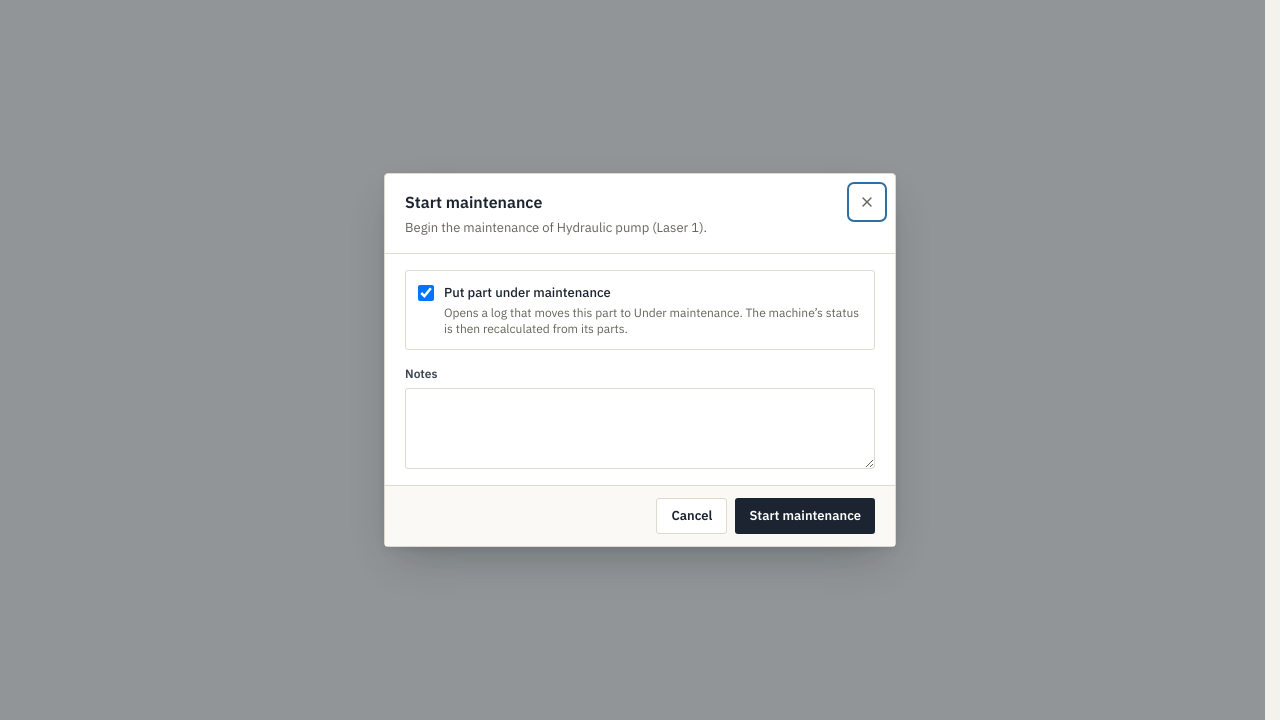
Test: Maintenance event dialogs › starting and completing › links to the open maintenance when the task already has one
Step 1. Click the button "Start maintenance" → (805, 516), box [735, 498, 875, 534]
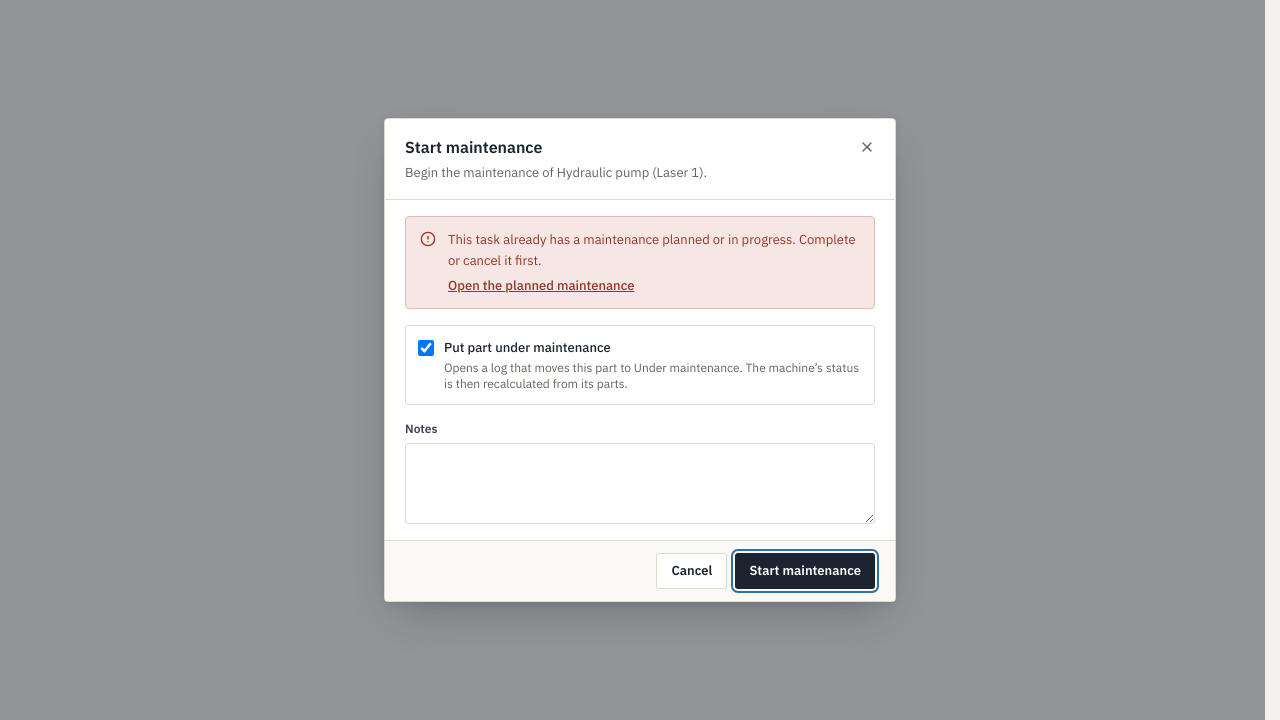
expect the text "already has a maintenance planned or in progress" is shown: met, box [448, 231, 856, 269]
